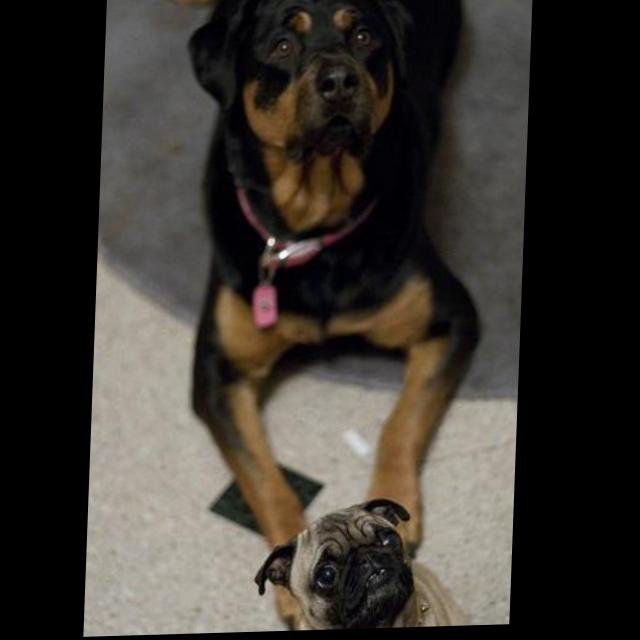other_dog_breed: (257, 498, 497, 634)
rottweiler: (151, 1, 496, 597)
